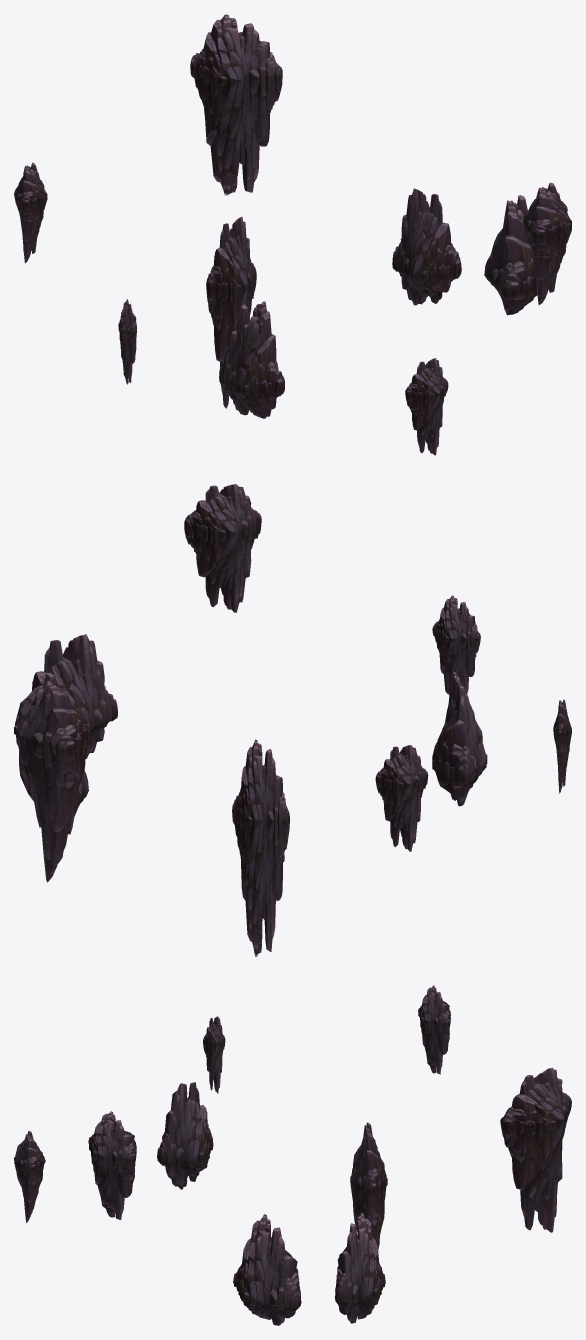
Rendered from island2.glb.
3 renders of one model, top to bottom at view 1: azimuth 30°, elevation 25°; view 2: azimuth 150°, elevation 25°; view 3: azimuth 270°, elevation 25°, orthographic. The views are drawn at different scales.
Parts seen in each view (by area): view 1: island.019, island.026, island.001, island.052, island.064, island.013, island.042, island.016, island.027; view 2: island.019, island.052, island.013, island.064, island.001, island.016, island.042, island.027; view 3: island.019, island.064, island.001, island.026, island.013, island.052, island.016, island.042, island.027.
Boxes of the visible parts, x1=… form: island.019: x1=190, y1=14, x2=282, y2=195; island.026: x1=392, y1=188, x2=461, y2=305; island.001: x1=219, y1=301, x2=284, y2=418; island.052: x1=206, y1=216, x2=256, y2=414; island.064: x1=484, y1=195, x2=537, y2=315; island.013: x1=523, y1=182, x2=571, y2=305; island.042: x1=405, y1=358, x2=448, y2=455; island.016: x1=14, y1=162, x2=47, y2=263; island.027: x1=118, y1=299, x2=136, y2=384; island.019: x1=14, y1=673, x2=90, y2=882; island.052: x1=232, y1=739, x2=289, y2=956; island.013: x1=184, y1=484, x2=261, y2=612; island.064: x1=17, y1=634, x2=117, y2=759; island.001: x1=432, y1=670, x2=487, y2=806; island.016: x1=375, y1=745, x2=428, y2=851; island.042: x1=432, y1=595, x2=480, y2=694; island.027: x1=553, y1=699, x2=571, y2=793; island.019: x1=500, y1=1067, x2=571, y2=1232; island.064: x1=233, y1=1214, x2=301, y2=1325; island.001: x1=157, y1=1082, x2=213, y2=1189; island.026: x1=335, y1=1212, x2=385, y2=1323; island.013: x1=88, y1=1111, x2=136, y2=1219; island.052: x1=350, y1=1122, x2=387, y2=1249; island.016: x1=418, y1=985, x2=450, y2=1074; island.042: x1=14, y1=1131, x2=45, y2=1222; island.027: x1=203, y1=1016, x2=225, y2=1093.
Size of the model in its own units: 396 by 249 by 456.
Materials: 3 (3 with a texture image).
